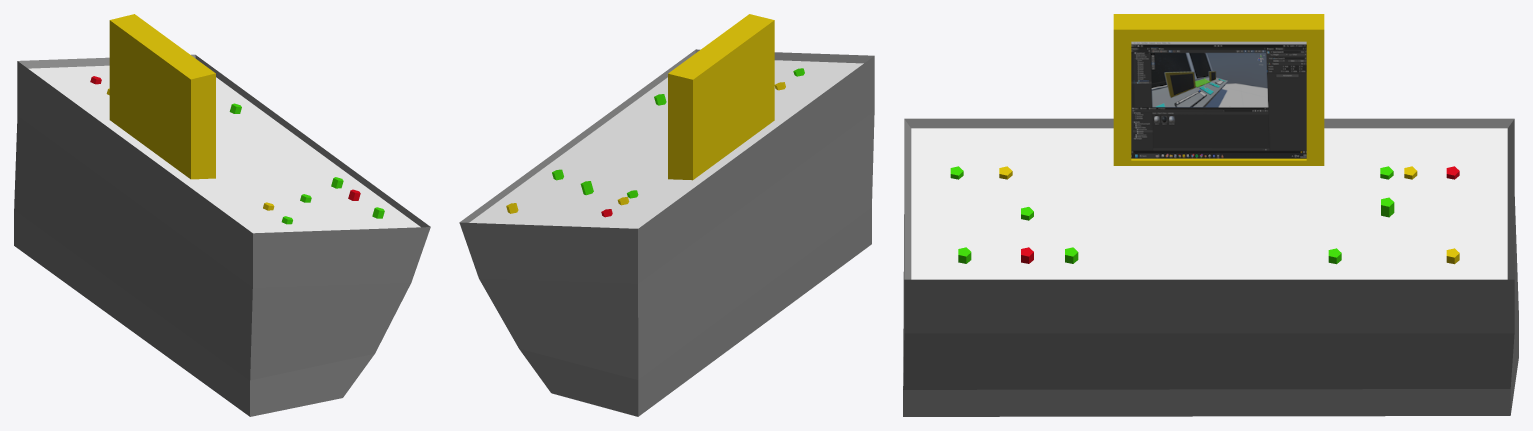
Rendered from Staion Console 9.fbx.
The picture shows the model from 3 angles, left to right: view 1: azimuth 30°, elevation 25°; view 2: azimuth 150°, elevation 25°; view 3: azimuth 270°, elevation 25°; orthographic projection. The views are drawn at different scales.
Visible parts, largest first — view 1: Cube.002; view 2: Cube.002; view 3: Cube.002.
Boxes of the visible parts, x1=… form: Cube.002: x1=14, y1=14, x2=430, y2=416; Cube.002: x1=459, y1=14, x2=874, y2=416; Cube.002: x1=903, y1=14, x2=1518, y2=416.
Size of the model in its own units: 209 by 308 by 479.
6 materials, 1 textured.
